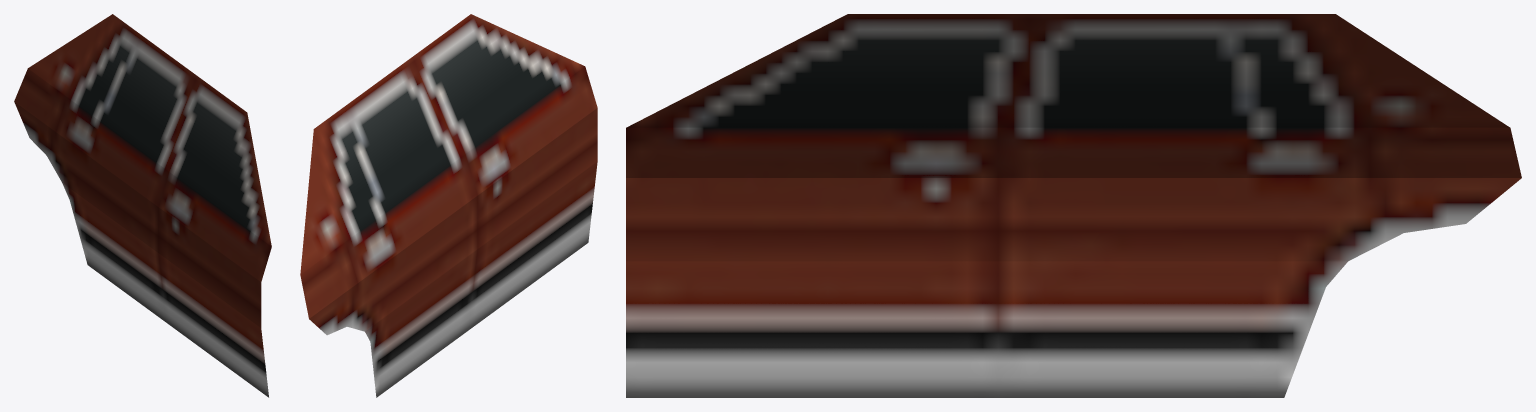
The model's file is sedan_red_door_FR.obj.
3 renders of one model, left to right at view 1: azimuth 30°, elevation 25°; view 2: azimuth 150°, elevation 25°; view 3: azimuth 270°, elevation 25°, orthographic. The views are drawn at different scales.
Parts seen in each view (by area): view 1: Car5.door.FR.001, Car5.door.FR; view 2: Car5.door.FR.001, Car5.door.FR; view 3: Car5.door.FR.001, Car5.door.FR.
Part boxes in pixels (box(x1,y1,x2,y2)): Car5.door.FR.001: box(14, 14, 271, 397); Car5.door.FR: box(15, 15, 270, 395); Car5.door.FR.001: box(300, 14, 597, 397); Car5.door.FR: box(301, 15, 597, 396); Car5.door.FR.001: box(626, 14, 1521, 397); Car5.door.FR: box(626, 14, 1520, 397).
Bounding box in the file's own units: 0.3568 × 1.67 × 3.23.
